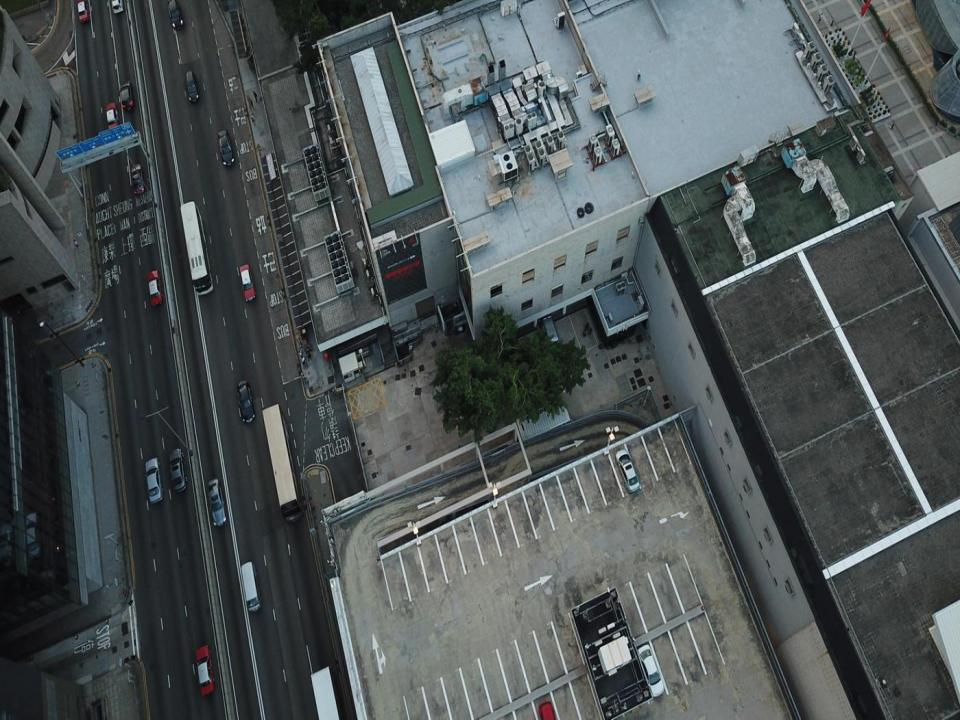bus: (261, 403, 303, 523), (180, 200, 213, 296), (310, 665, 345, 719), (542, 316, 564, 370)
car: (636, 644, 663, 698), (615, 447, 641, 492), (196, 645, 215, 696), (145, 457, 164, 505), (208, 478, 226, 525), (237, 379, 255, 424), (170, 448, 188, 492), (238, 263, 255, 302), (218, 130, 234, 165), (148, 270, 164, 305), (167, 0, 183, 30), (105, 102, 119, 134), (120, 80, 134, 110), (131, 164, 145, 194), (186, 70, 199, 102), (76, 0, 90, 23), (111, 0, 124, 14)
van: (240, 561, 262, 612), (437, 514, 451, 538)
